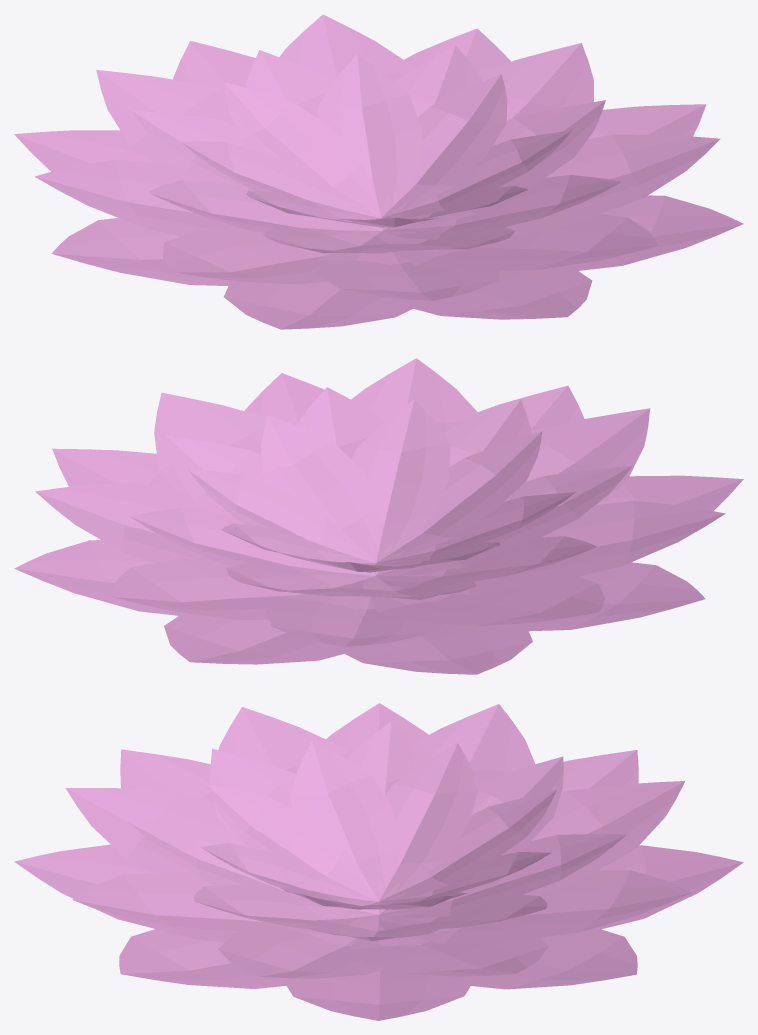
File: waterlily.fbx
The picture shows the model from 3 angles, top to bottom: view 1: azimuth 30°, elevation 25°; view 2: azimuth 150°, elevation 25°; view 3: azimuth 270°, elevation 25°; orthographic projection. The views are drawn at different scales.
Visible parts, largest first — view 1: Plane.104; view 2: Plane.104; view 3: Plane.104.
Boxes of the visible parts, x1,y1,x2,y2 form: Plane.104: [14, 14, 743, 329]; Plane.104: [14, 358, 743, 674]; Plane.104: [14, 703, 743, 1020].
Bounding box in the file's own units: 30 × 4.99 × 30.
